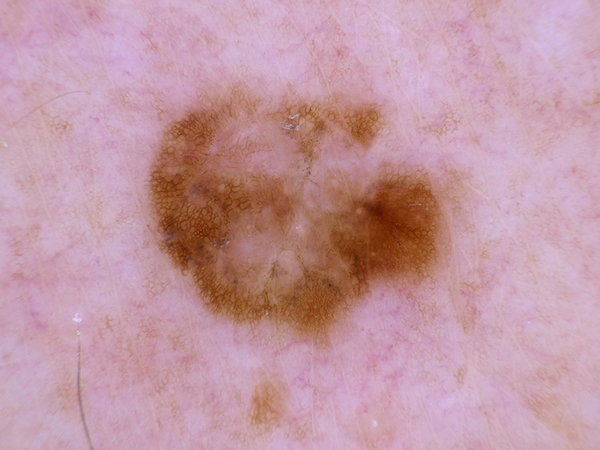Detected Lesion: (144, 80, 455, 345)
